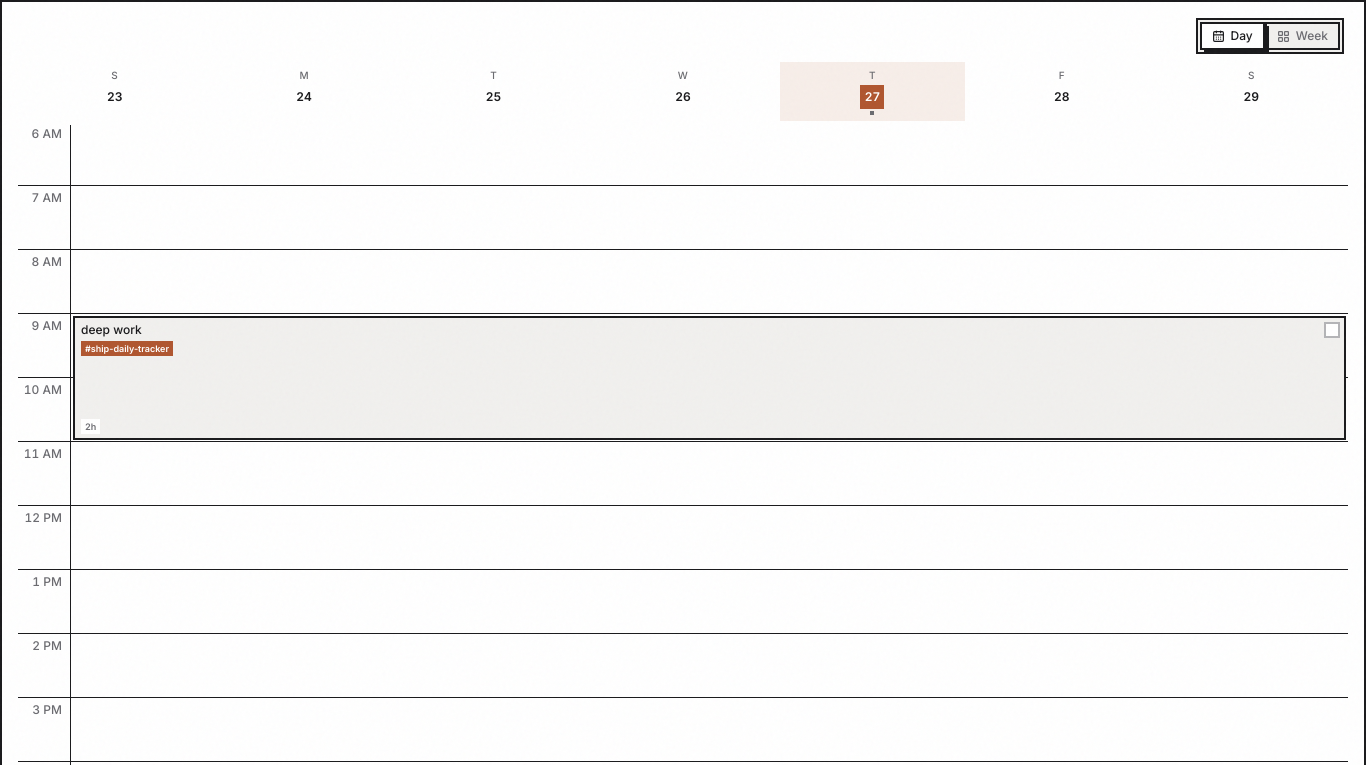
Test: WeekCalendar block deletion › unlinking a goal tag in the editor is optimistic (chip disappears immediately)
Click the button with aria-label "Edit THU 9 AM: deep work" at (710, 378), box [73,316,1346,440]
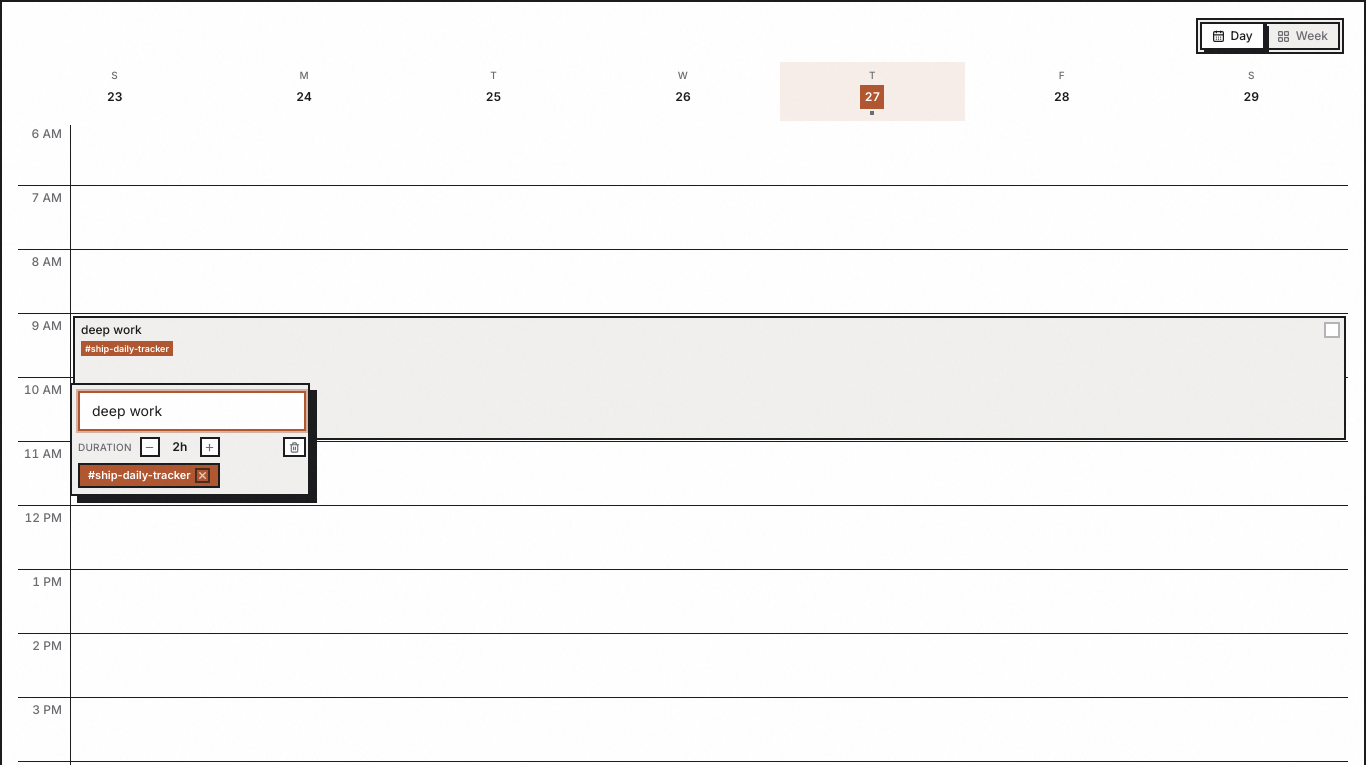
Result: the text "#ship-daily-tracker" below "Duration" is shown at [95,468,191,482]
Click the button named "Unlink" at (202, 475), box [195,468,210,483]
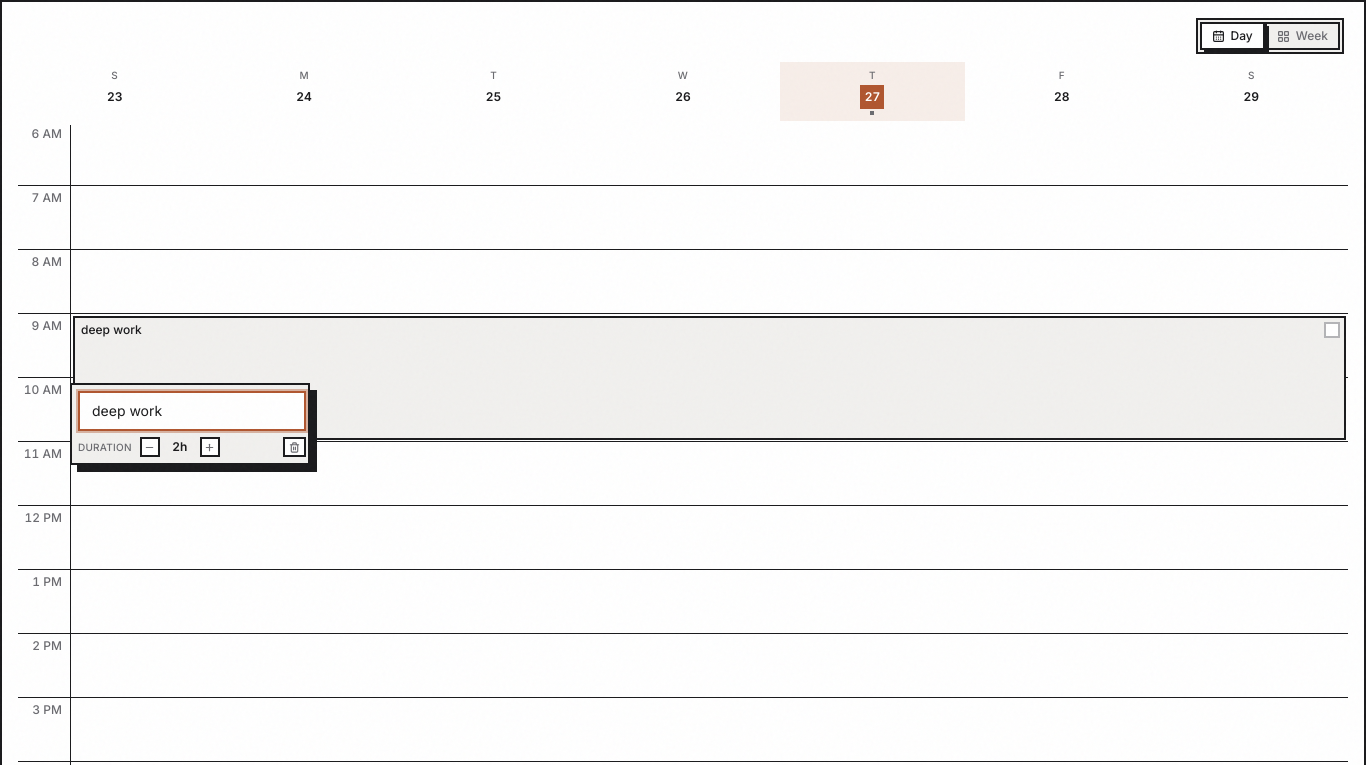
Result: the text "ship-daily-tracker" is gone
